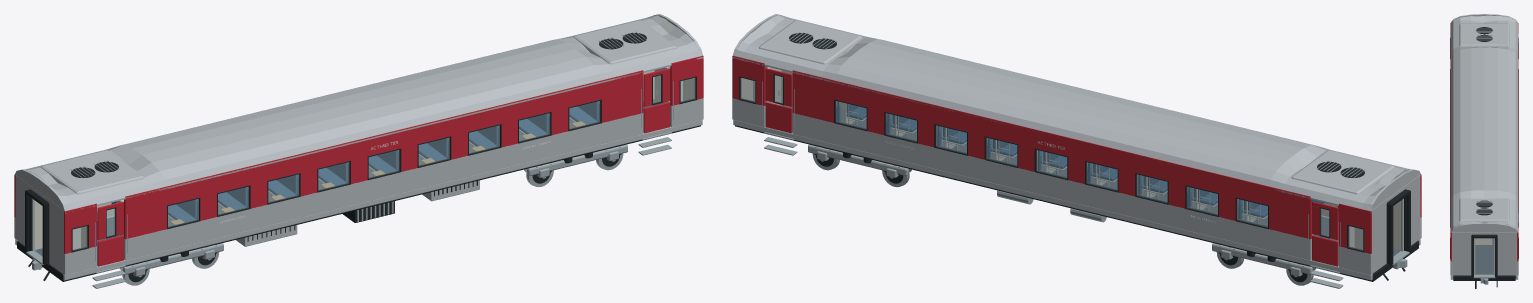
File: LHB_3A.fbx
3 views of the same model, side by side, from view 1: azimuth 30°, elevation 25°; view 2: azimuth 150°, elevation 25°; view 3: azimuth 270°, elevation 25° (orthographic). The views are drawn at different scales.
Parts seen in each view (by area): view 1: ROOF_arch, BODYSIDE_sill.001, BODYSIDE_header.001, UNDERFRAME_edge, AC_ROOF_end_package.001, AC_ROOF_end_package, UNDERFRAME_main, BODYSIDE_window_pillar.002, BODYSIDE_window_pillar.011, END_wall, END_wall.001, BOGIE_sideframe_FRONT (+21 smaller); view 2: ROOF_arch, BODYSIDE_sill.004, BODYSIDE_header.004, UNDERFRAME_edge.001, AC_ROOF_end_package.001, AC_ROOF_end_package, INTERIOR_floor, UNDERFRAME_main, BODYSIDE_window_pillar.016, BODYSIDE_window_pillar.025, END_wall.001, END_wall (+18 smaller); view 3: ROOF_arch, AC_ROOF_end_package.001, AC_ROOF_end_package, END_wall.002, END_wall.003, INTERIOR_floor, ROOF_endcap.001, UNDERFRAME_main, BODYSIDE_header.001, BODYSIDE_header.004, ROOF_endcap, BAY_partition.008 (+8 smaller).
Boxes of the visible parts, left/top/right/bottom form: ROOF_arch: left=14, top=15, right=703, bottom=213; BODYSIDE_sill.001: left=124, top=113, right=643, bottom=260; BODYSIDE_header.001: left=124, top=70, right=643, bottom=216; UNDERFRAME_edge: left=63, top=119, right=702, bottom=280; AC_ROOF_end_package.001: left=573, top=20, right=677, bottom=64; AC_ROOF_end_package: left=41, top=150, right=144, bottom=194; UNDERFRAME_main: left=17, top=125, right=700, bottom=281; BODYSIDE_window_pillar.002: left=124, top=206, right=166, bottom=239; BODYSIDE_window_pillar.011: left=602, top=90, right=643, bottom=122; END_wall: left=46, top=198, right=63, bottom=273; END_wall.001: left=15, top=175, right=34, bottom=251; BOGIE_sideframe_FRONT: left=527, top=144, right=627, bottom=175; ROOF_arch: left=732, top=15, right=1421, bottom=213; BODYSIDE_sill.004: left=792, top=113, right=1311, bottom=260; BODYSIDE_header.004: left=792, top=70, right=1311, bottom=216; UNDERFRAME_edge.001: left=733, top=119, right=1372, bottom=280; AC_ROOF_end_package.001: left=758, top=20, right=862, bottom=64; AC_ROOF_end_package: left=1291, top=150, right=1394, bottom=194; INTERIOR_floor: left=781, top=99, right=1400, bottom=265; UNDERFRAME_main: left=735, top=125, right=1418, bottom=281; BODYSIDE_window_pillar.016: left=1269, top=206, right=1311, bottom=239; BODYSIDE_window_pillar.025: left=792, top=90, right=833, bottom=122; END_wall.001: left=1372, top=198, right=1389, bottom=273; END_wall: left=1401, top=175, right=1420, bottom=251; ROOF_arch: left=1450, top=14, right=1518, bottom=233; AC_ROOF_end_package.001: left=1459, top=198, right=1509, bottom=222; AC_ROOF_end_package: left=1459, top=23, right=1509, bottom=47; END_wall.002: left=1452, top=232, right=1475, bottom=275; END_wall.003: left=1493, top=232, right=1516, bottom=275; INTERIOR_floor: left=1475, top=238, right=1493, bottom=274; ROOF_endcap.001: left=1452, top=223, right=1517, bottom=232; UNDERFRAME_main: left=1453, top=275, right=1515, bottom=280; BODYSIDE_header.001: left=1450, top=43, right=1450, bottom=212; BODYSIDE_header.004: left=1518, top=43, right=1518, bottom=212; ROOF_endcap: left=1450, top=14, right=1516, bottom=23; BAY_partition.008: left=1475, top=238, right=1492, bottom=244.
Bounding box in the file's own units: 326 × 2416 × 406.
